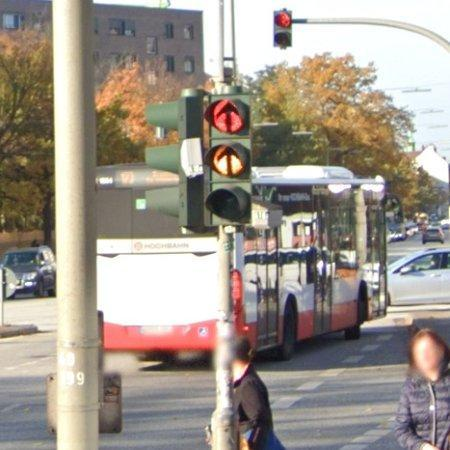buses: (97, 166, 218, 352)
